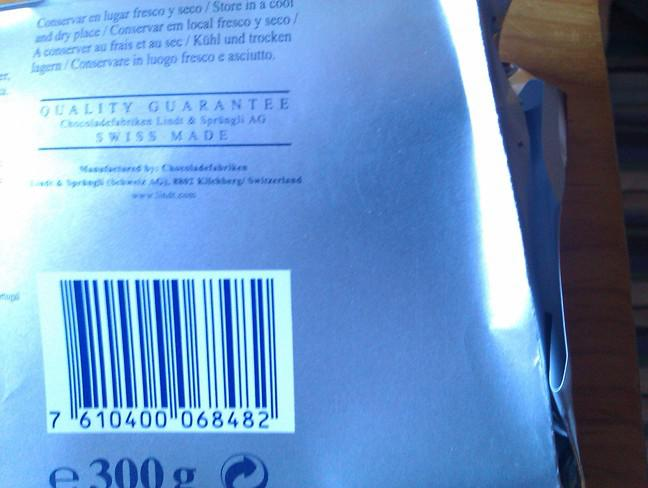Barkod: (31, 272, 292, 433)
